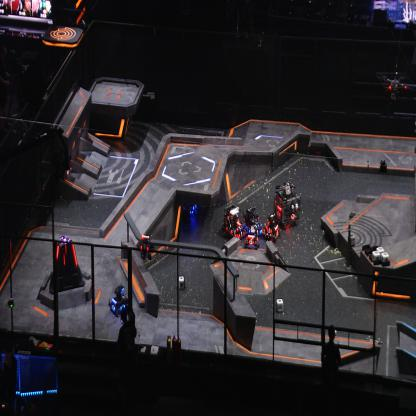car: (273, 180, 301, 229), (172, 172, 199, 219), (222, 201, 246, 242), (242, 204, 263, 240), (108, 284, 129, 318), (262, 212, 280, 243), (244, 226, 260, 250)
